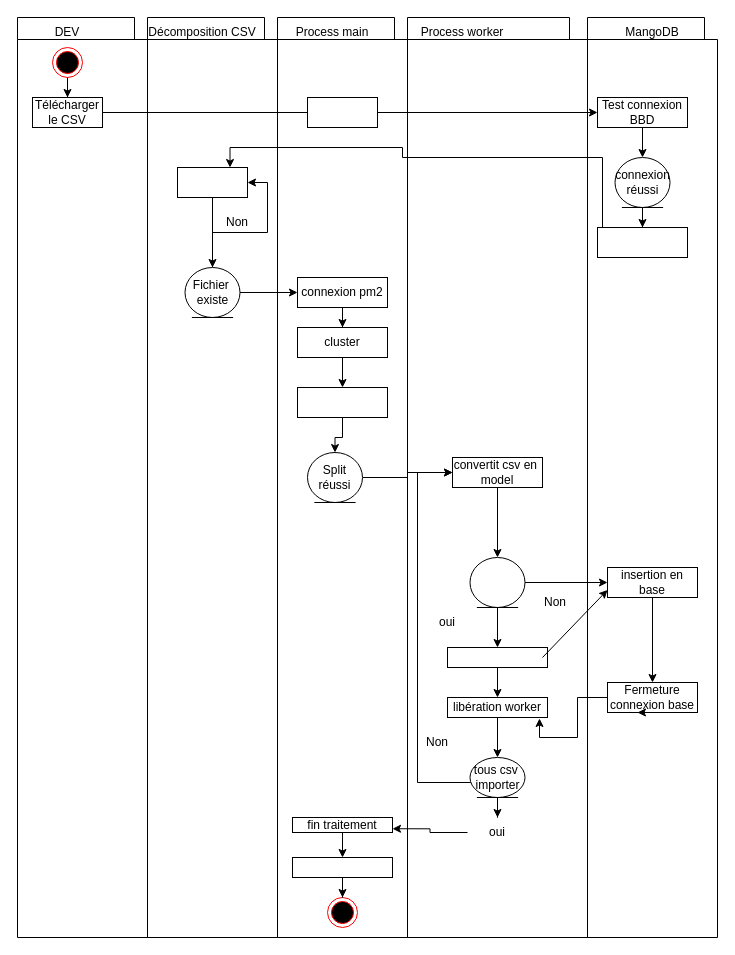
Image size: 735x955. Some labels were removed from this diagram. Here are the shapes that lost their labels. From the top down, the centre of each, then its label:
(342,112): start
(212,182): importer CSV
(642,242): Truncate bdd
(342,402): Division des csv
(497,582): champ null
(497,657): filtre champ null
(342,867): afficher temps
